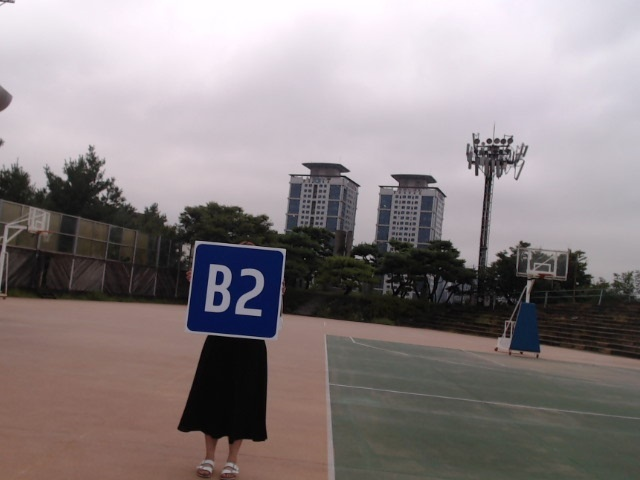delivery_b2: (185, 243, 285, 340)
